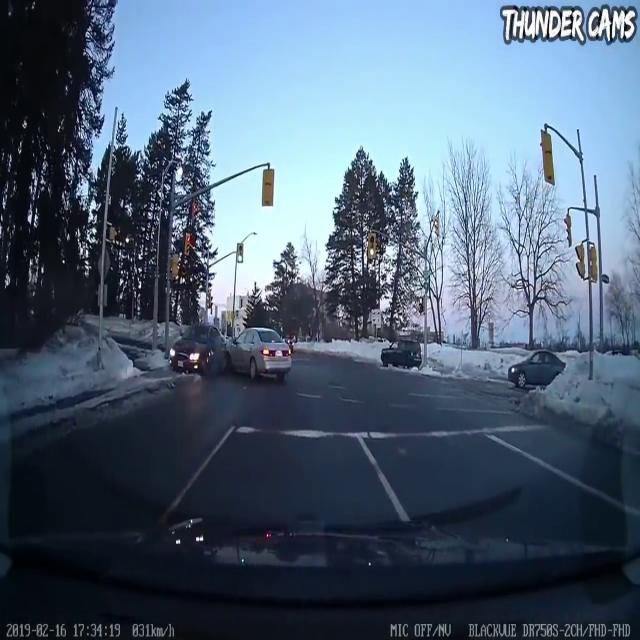accident: (160, 306, 293, 392)
